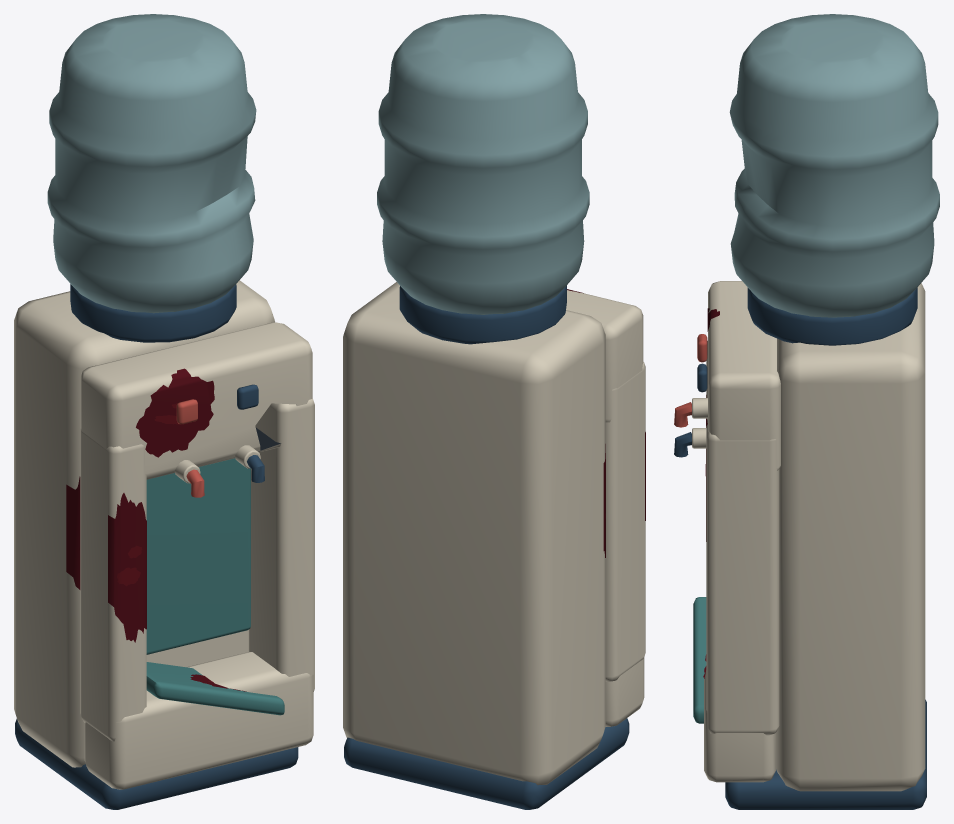
Rendered from water_cooler.glb.
3 views of the same model, side by side, from view 1: azimuth 30°, elevation 25°; view 2: azimuth 150°, elevation 25°; view 3: azimuth 270°, elevation 25° (orthographic).
Visible parts, largest first — view 1: water_cooler_Outbreak_Static; view 2: water_cooler_Outbreak_Static; view 3: water_cooler_Outbreak_Static.
Boxes of the visible parts, x1,y1,x2,y2 form: water_cooler_Outbreak_Static: (14, 14, 314, 809); water_cooler_Outbreak_Static: (343, 14, 645, 809); water_cooler_Outbreak_Static: (674, 14, 939, 809).
Size of the model in its own units: 0.445 by 1.47 by 0.488.
